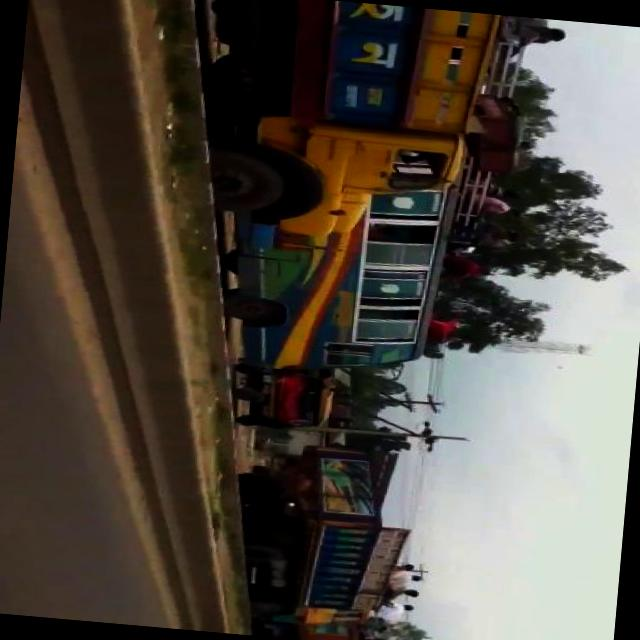bus: (218, 212, 457, 388)
truck: (182, 0, 543, 275), (223, 426, 427, 636)
